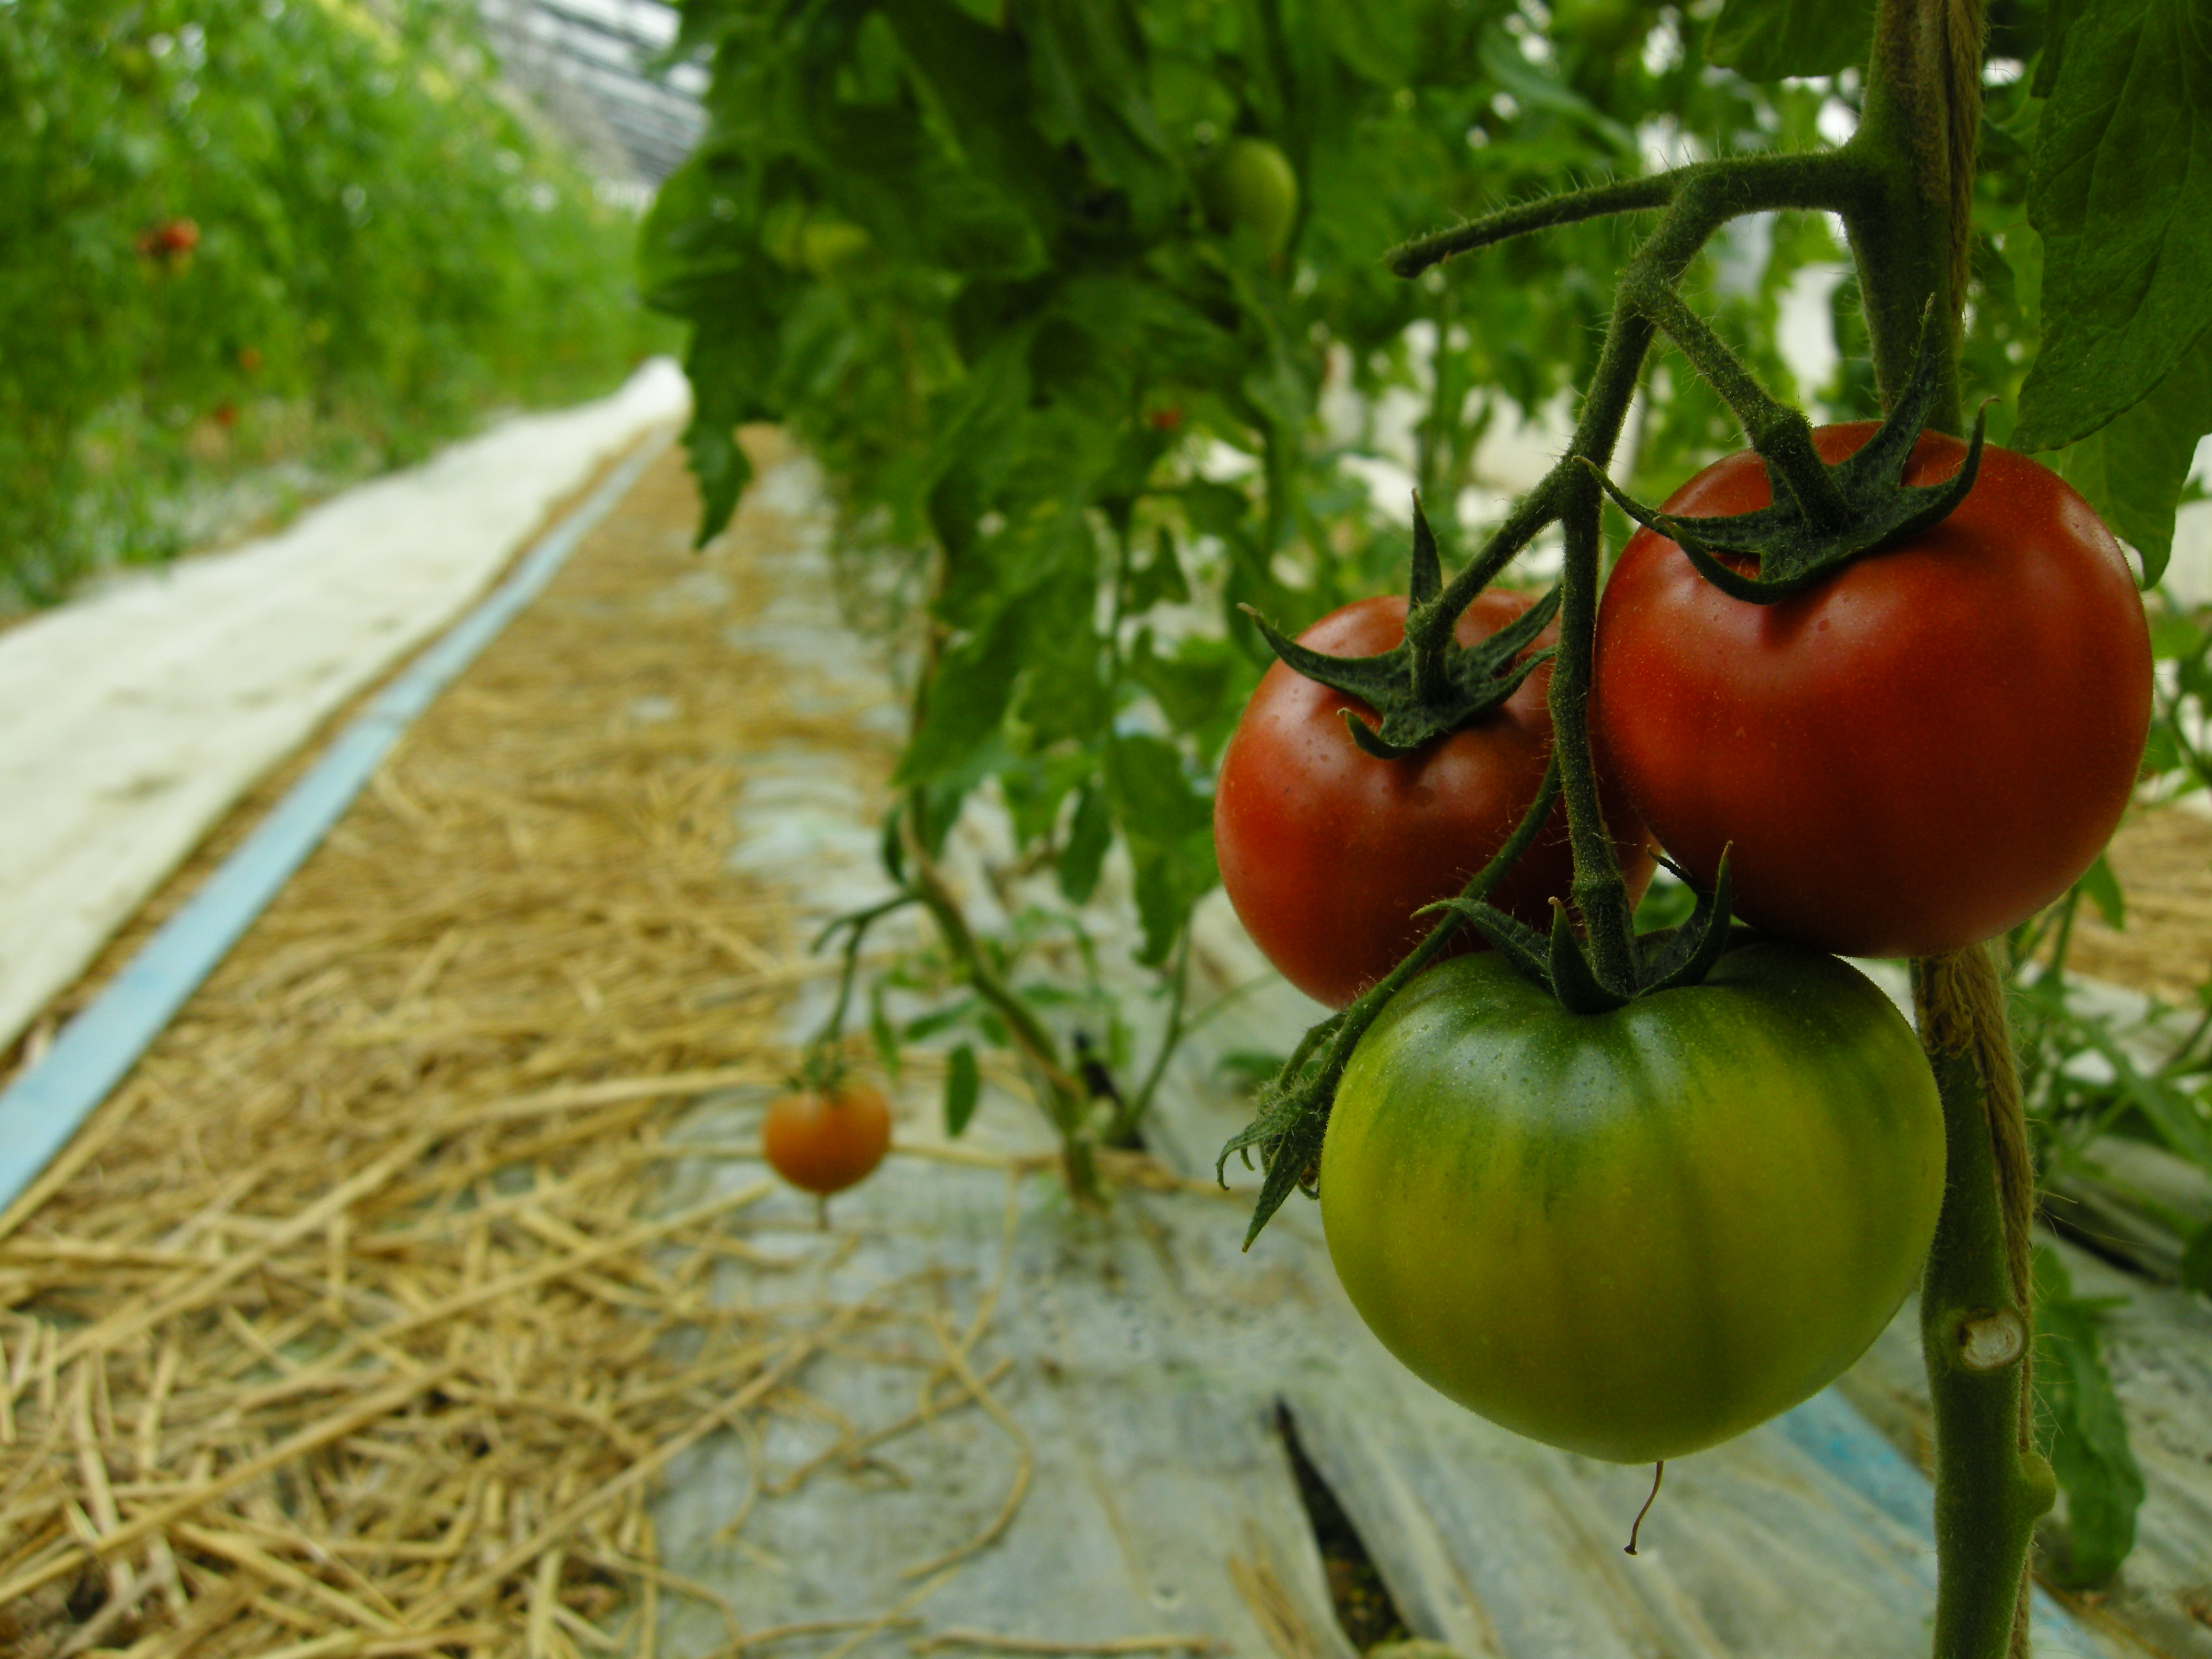stems: (1367, 486, 1562, 713), (1545, 704, 1674, 976)
tomato: (1318, 929, 1946, 1471), (1583, 420, 2174, 965), (1209, 610, 1608, 1018)
